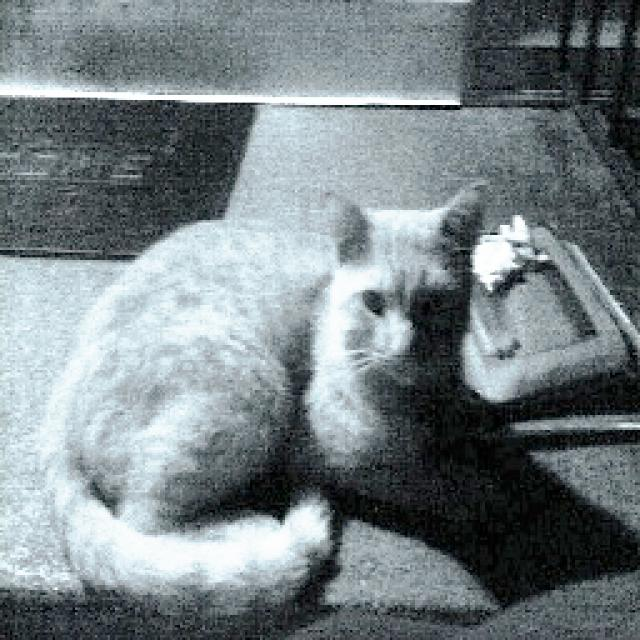cat: (28, 162, 578, 625)
